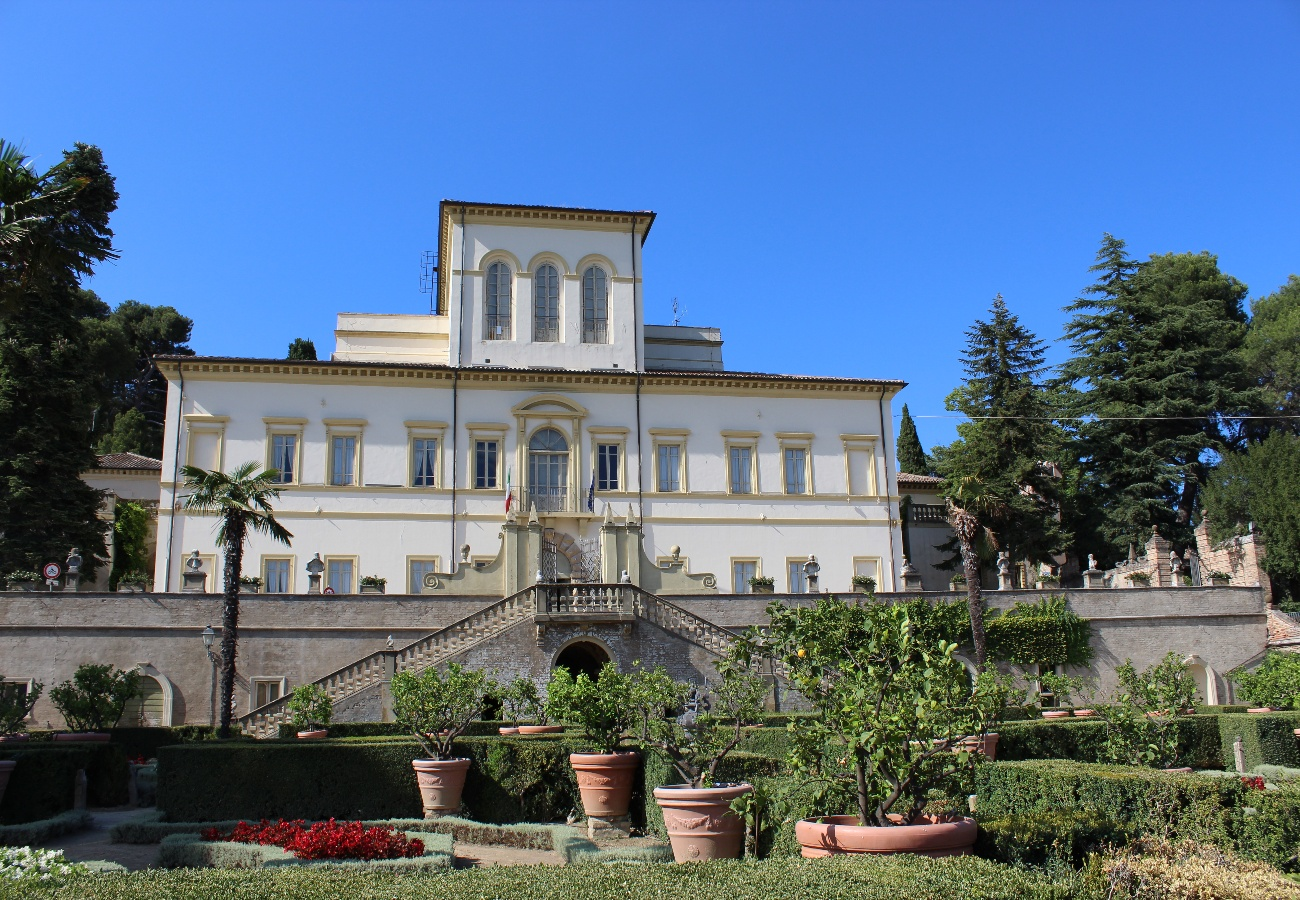Villa Caprile: (147, 199, 911, 629)
